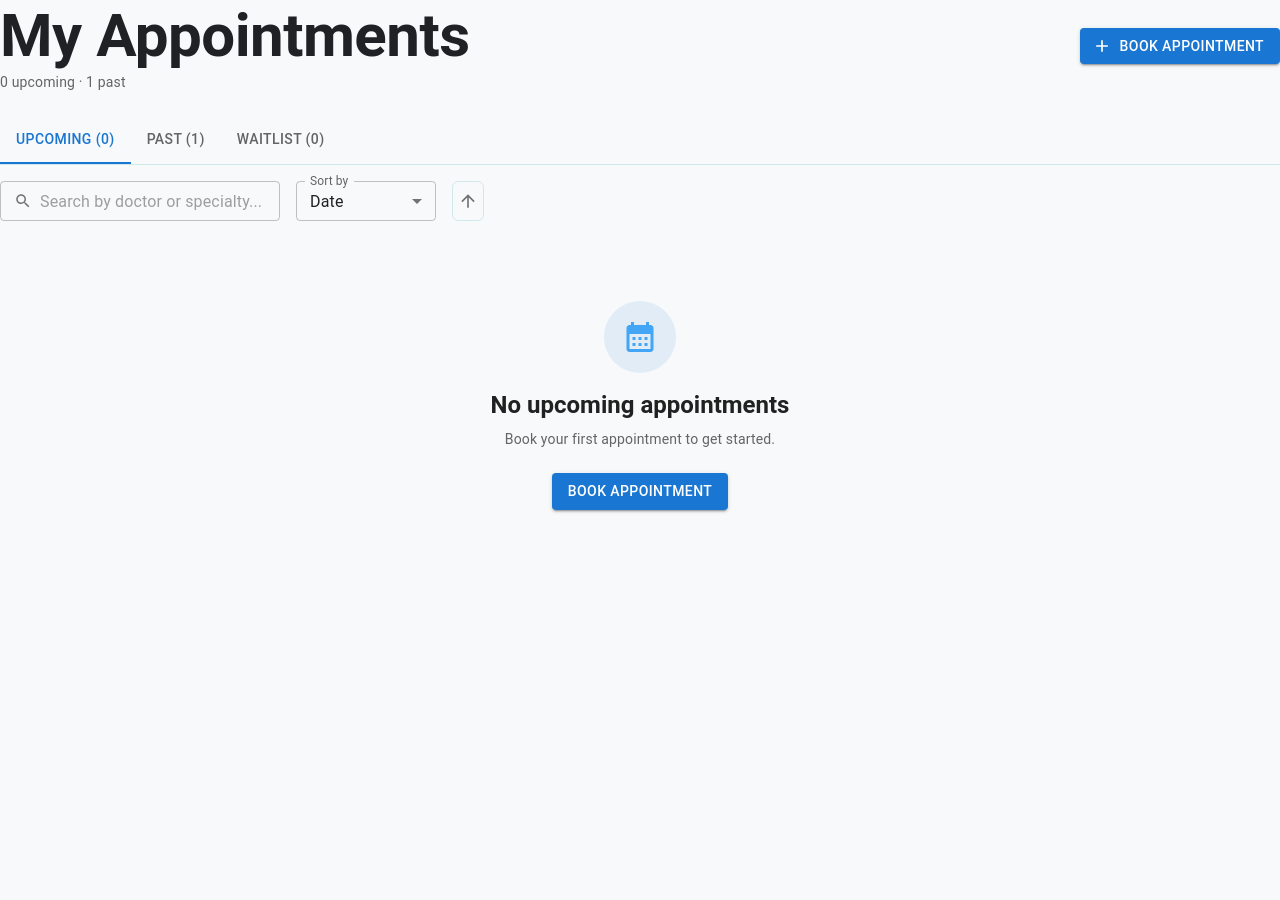
Test: PatientAppointments — review submission (P1-06) › submits the review with the right variables and shows success feedback
The width and height of the screenshot is (1280, 900).
Click the tab "Past (1)" at (176, 140), box [131,116,221,164]
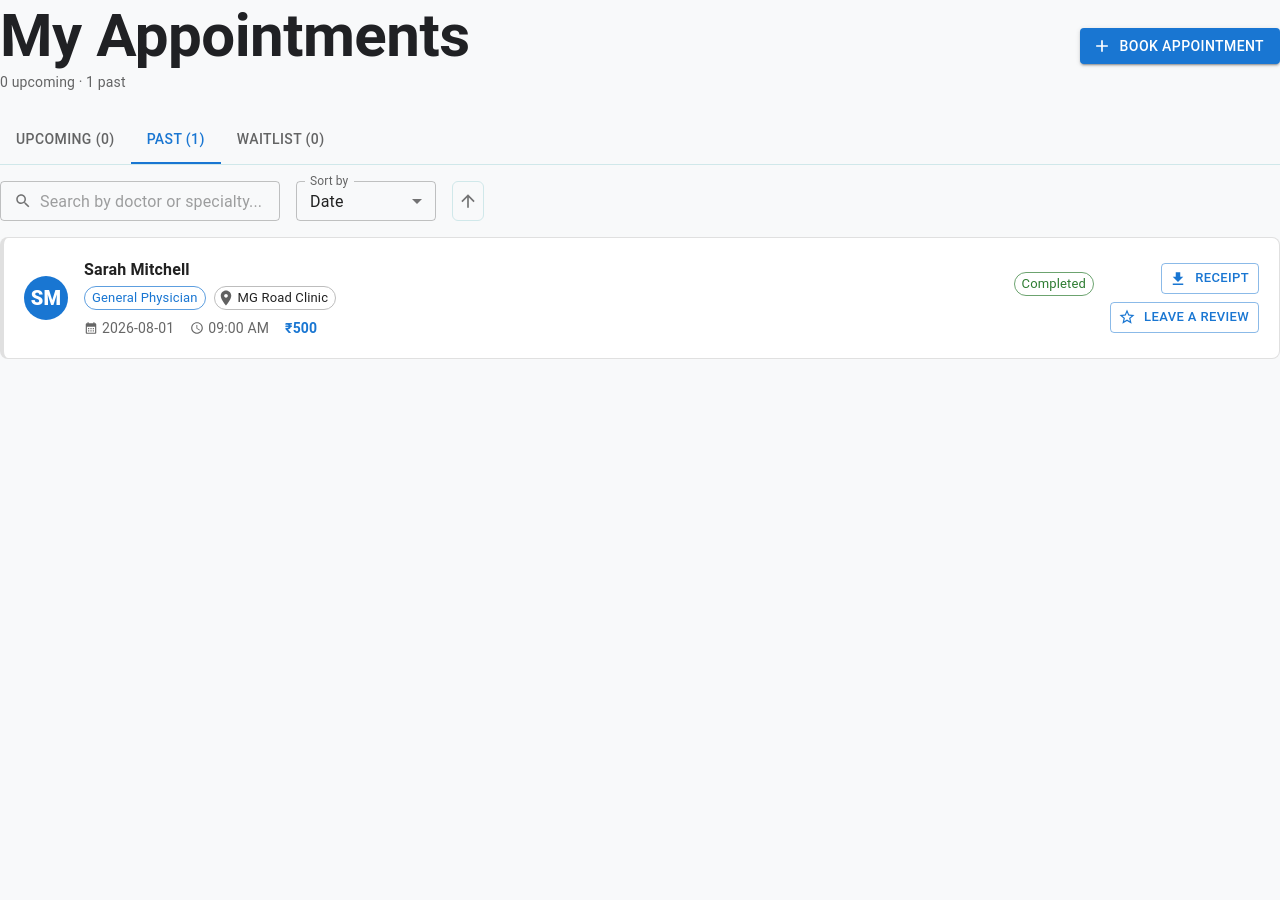
Click the button "Leave a Review" at (1184, 317), box [1110,302,1259,333]
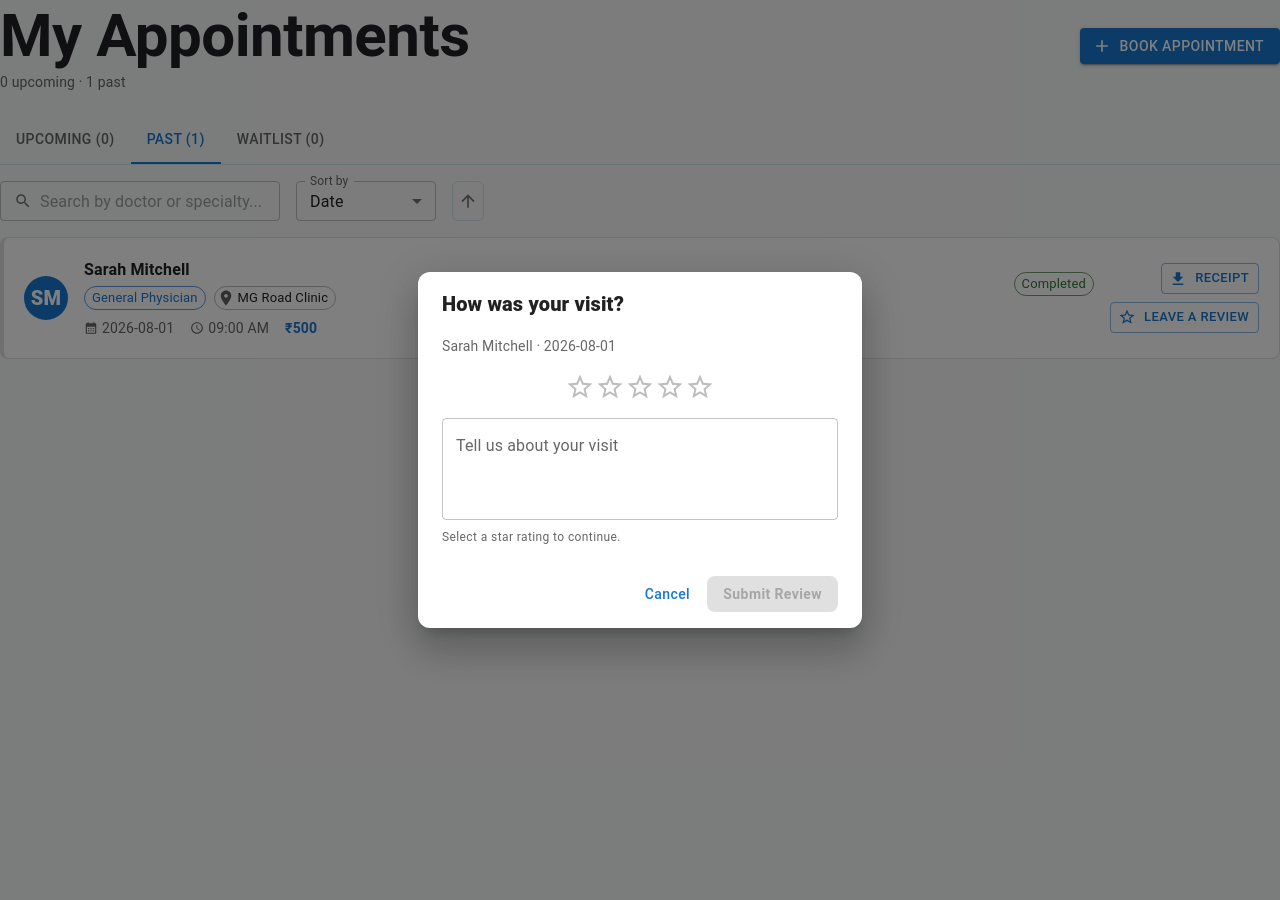
expect the heading "How was your visit?" is shown: met, box [442,292,624,316]
Click the radio button named "5 Stars" at (700, 387), box [685,372,715,402]
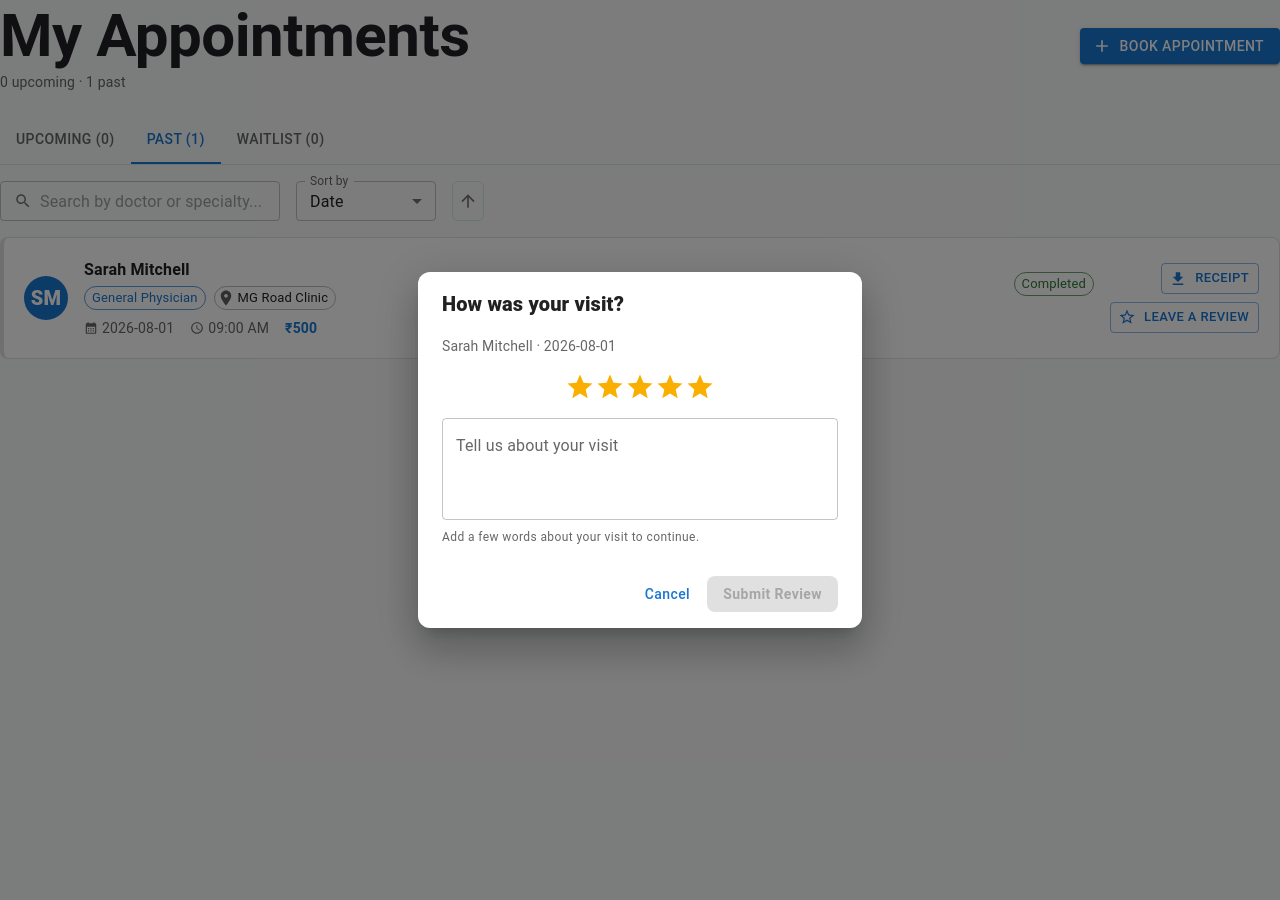
Type "Excellent care" into the text box labelled "Tell us about your visit" at (640, 469), box [456,434,824,503]
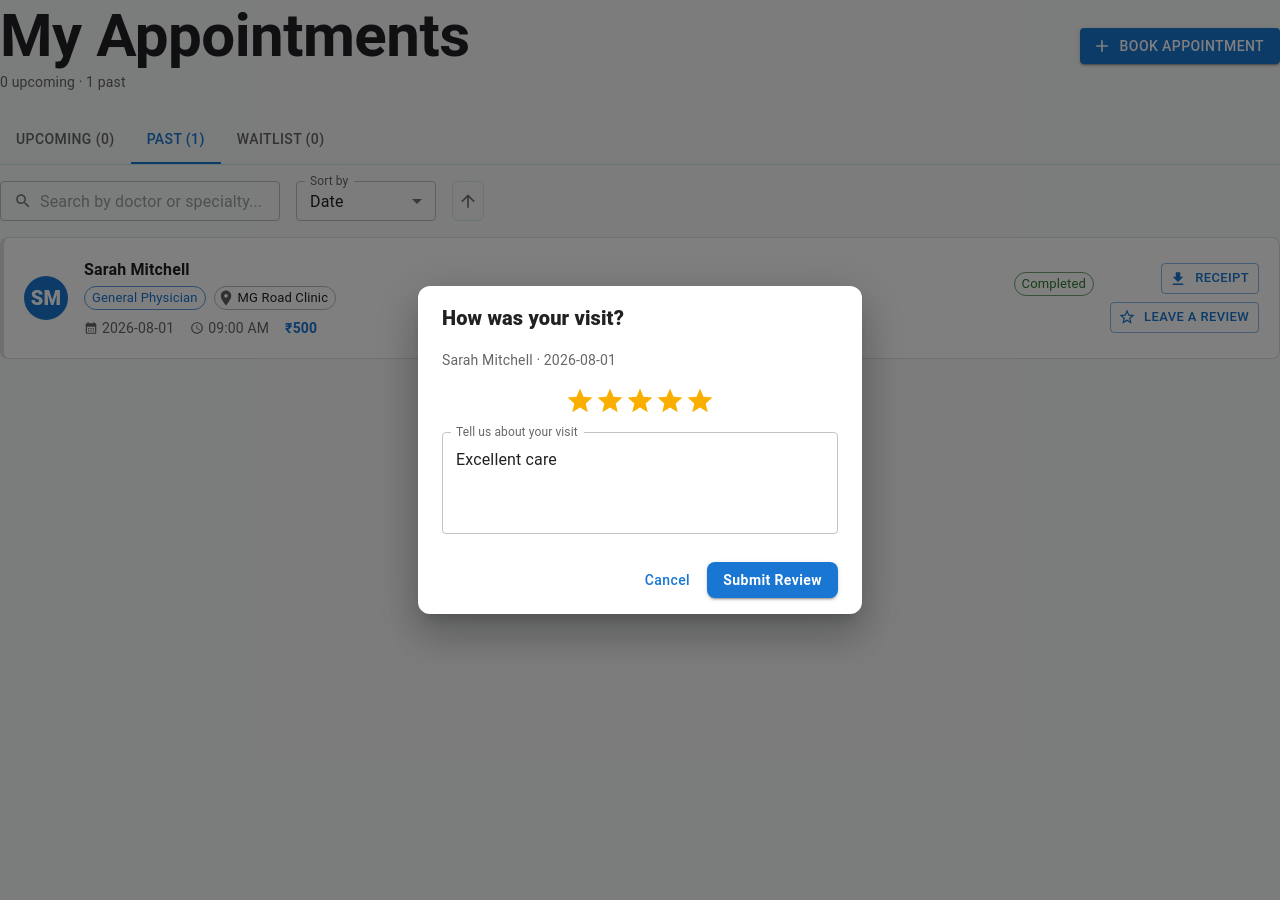
Click the button "Submit Review" at (773, 580), box [707,562,838,598]
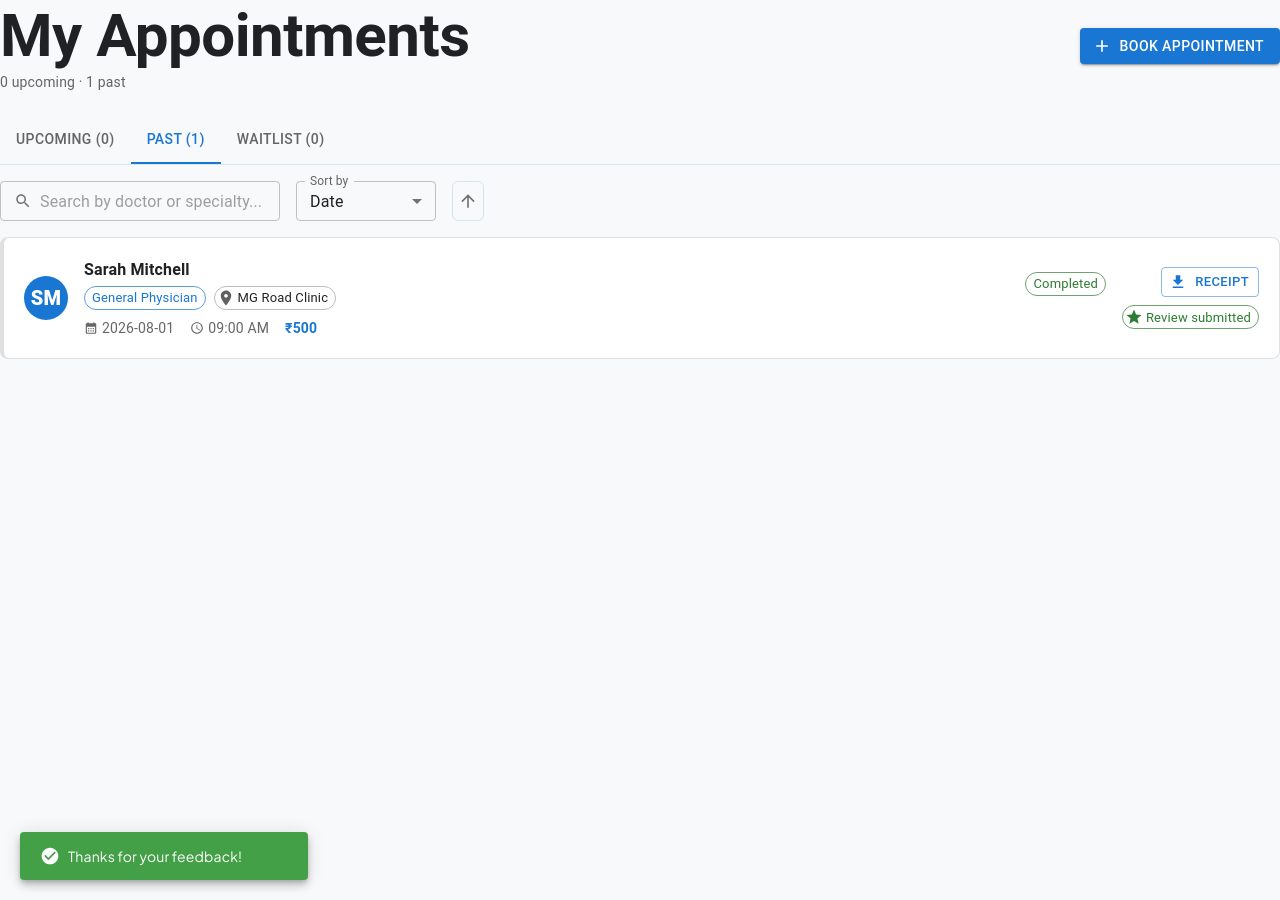
expect the heading "How was your visit?" is gone: met
expect the text "Thanks for your feedback!" is shown: met, box [40,846,242,866]
